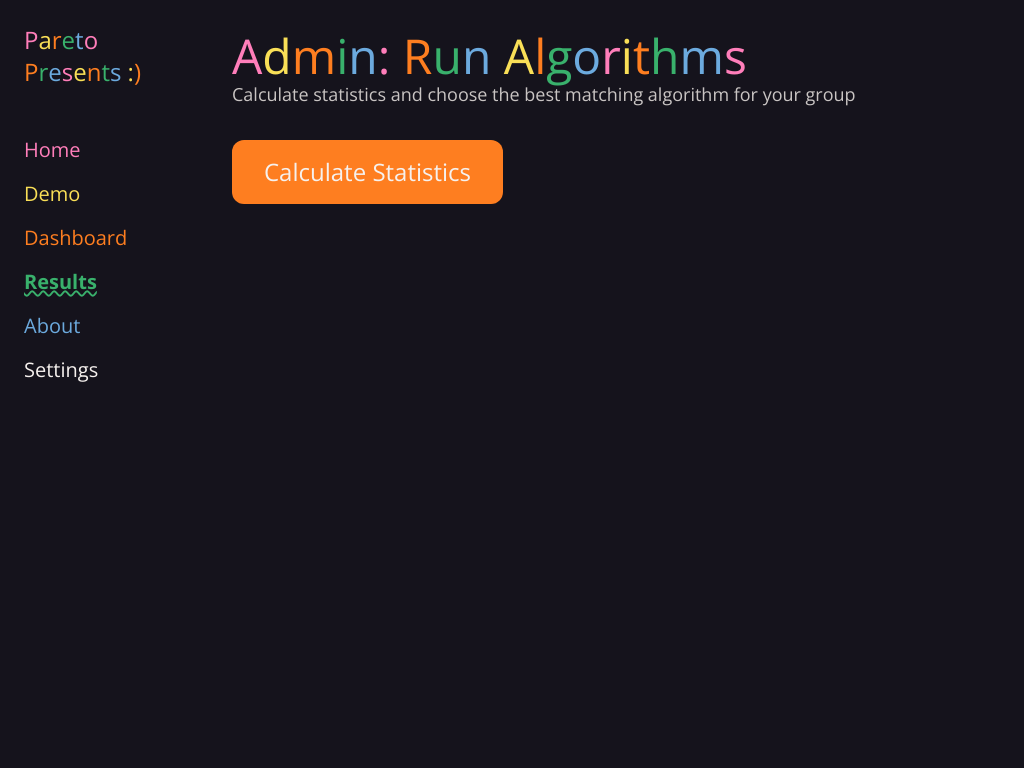
ResultsPage › Admin - Algorithm Selection and Finalization › disables Finalize button when no algorithm is selected
The width and height of the screenshot is (1024, 768).
Click the button "Calculate Statistics": coordinates (368, 172) [232, 140, 503, 204]
(page scrolled)
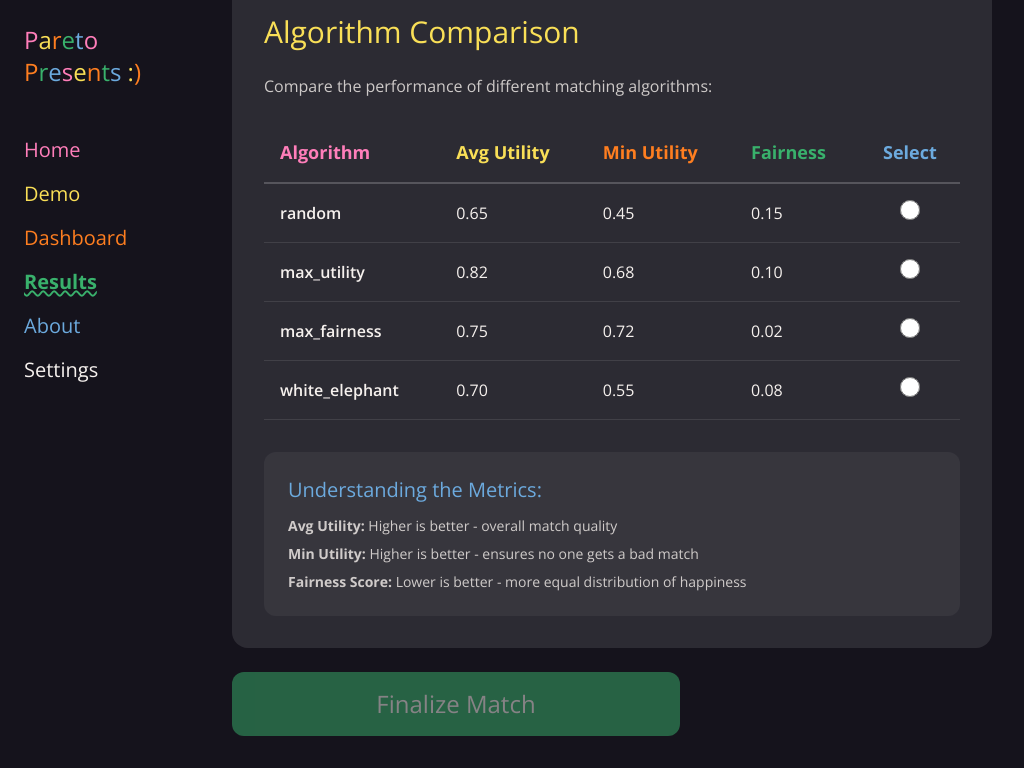
Expected: the button "Finalize Match" is disabled, [232, 672, 680, 736]
